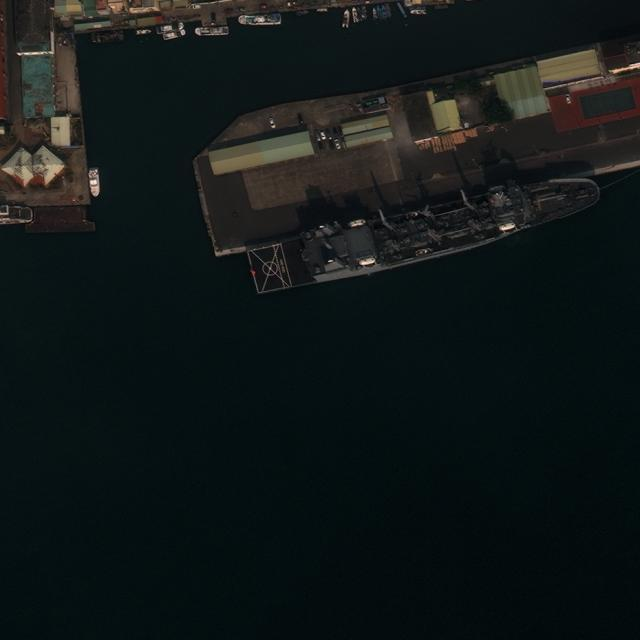Auxiliary Ships: (246, 166, 606, 301)
